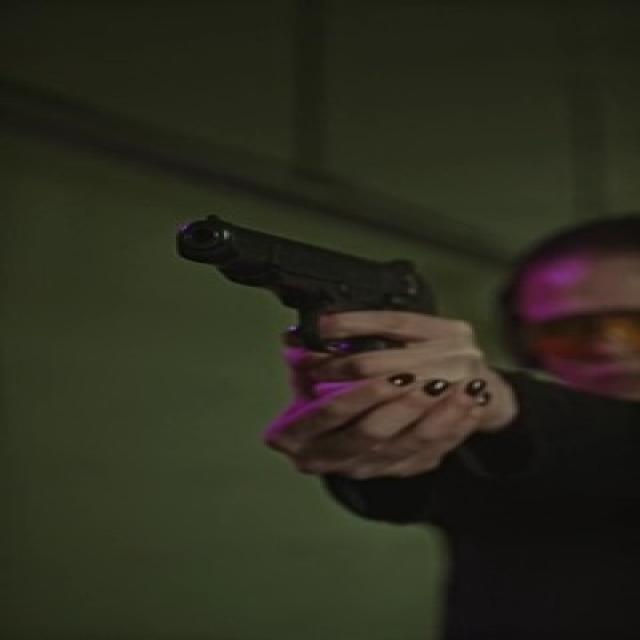Gun_Holder: (128, 206, 552, 488)
Person: (381, 162, 640, 639)
